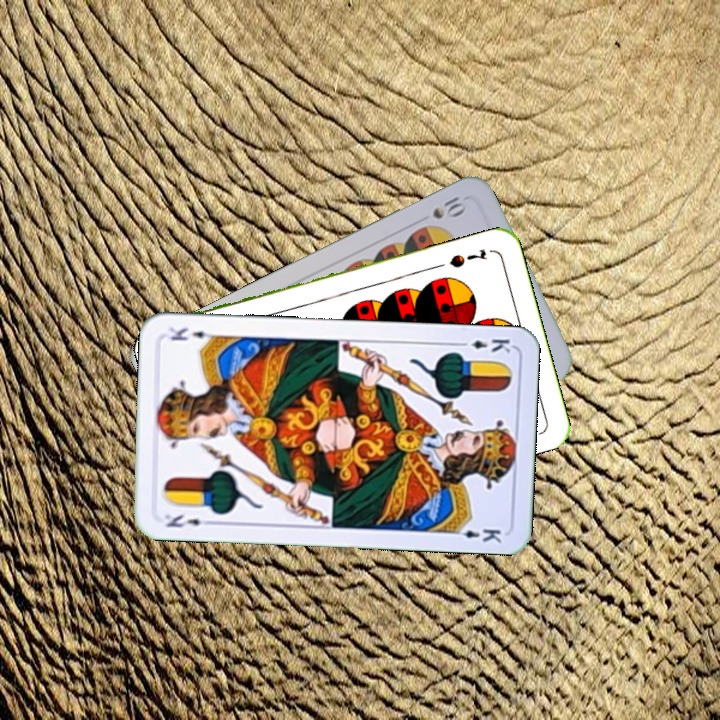EK: (454, 334, 513, 355), (161, 510, 216, 530)
S10: (428, 192, 470, 222)
S7: (445, 245, 490, 271)
